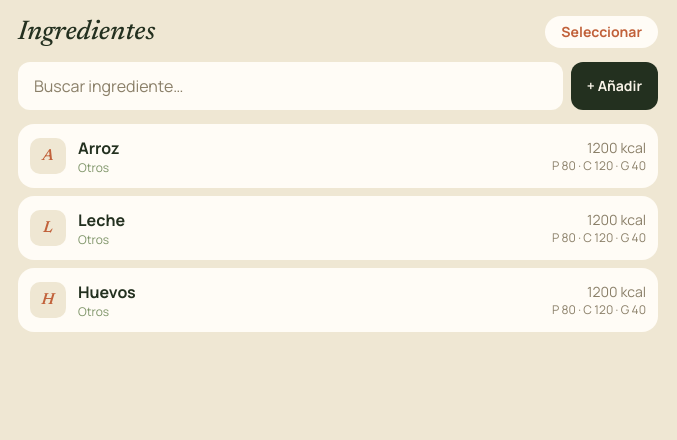
Test: IngredientsPage › selecciona únicamente los resultados de la búsqueda
The width and height of the screenshot is (677, 440).
Expected: the text "Arroz" is shown, [78,137,120,159]
Click the button "Seleccionar" at (602, 32), box [545,16,658,48]
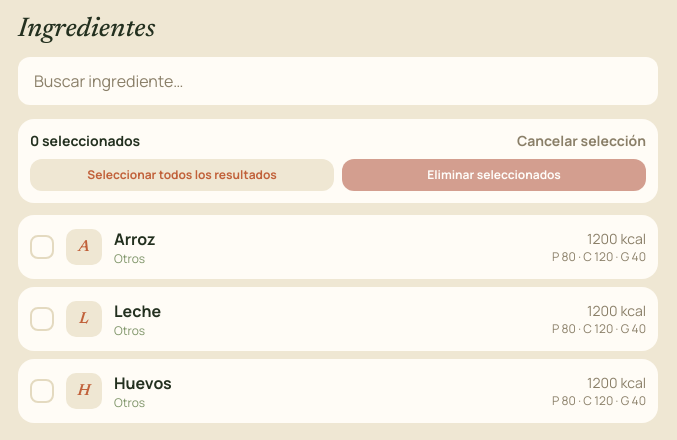
Type "lech" into the field with placeholder "Buscar ingrediente…" at (338, 81), box [18,57,658,105]
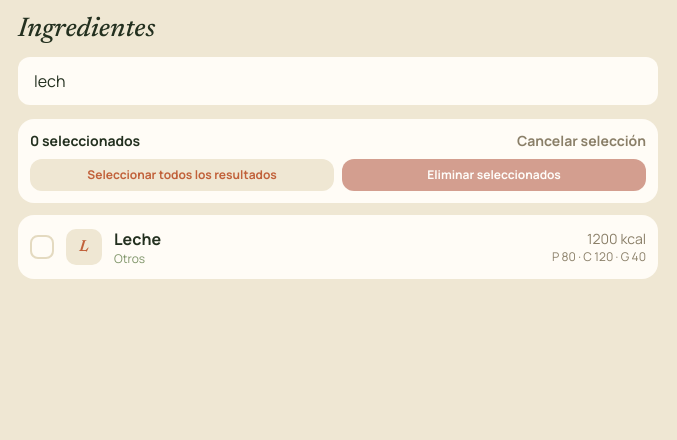
Click the button "Seleccionar todos los resultados" at (182, 175), box [30,159,334,191]
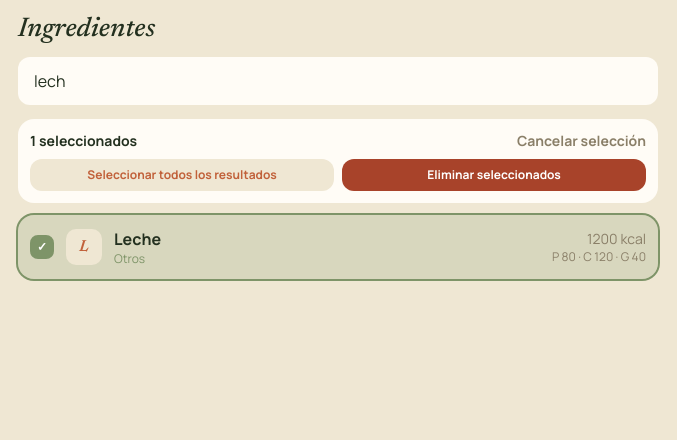
Now the text "1 seleccionados" is shown, box [30,131,137,151]
Click the button "Eliminar seleccionados" at (494, 175), box [342,159,646,191]
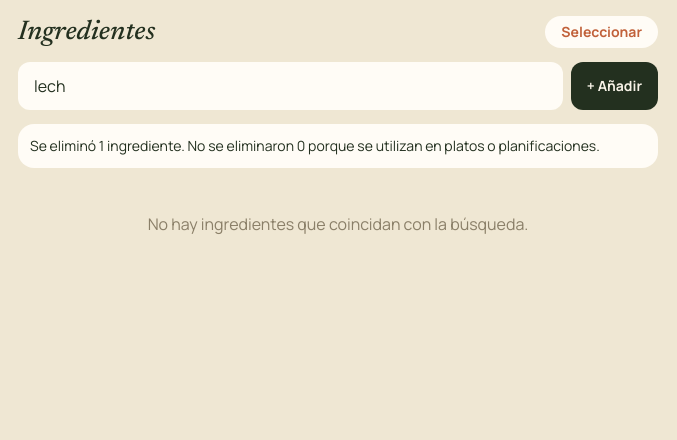
Now the text "Se eliminó 1 ingrediente" is shown, box [30,136,185,155]
